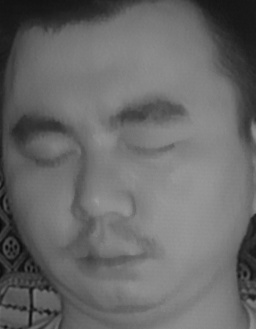blink: (126, 132, 178, 171), (30, 139, 76, 176)
mouth: (73, 231, 153, 283)
